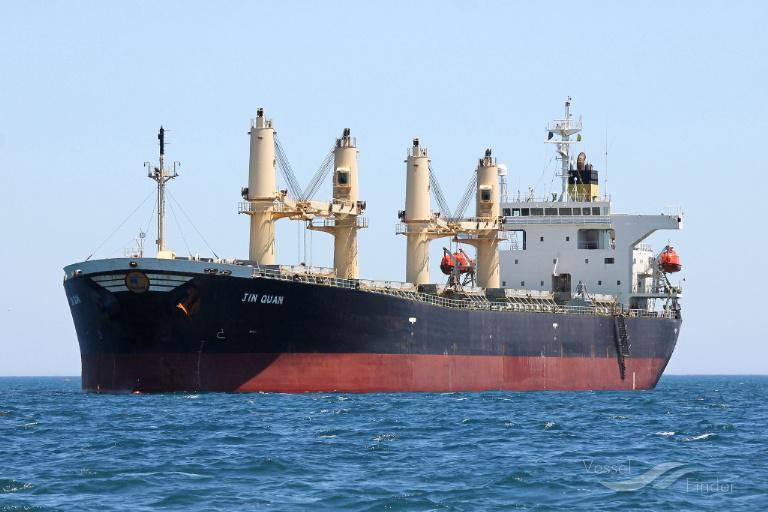OCR: (236, 288, 292, 308)
